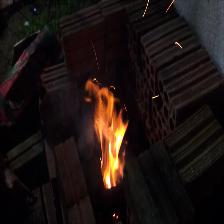fire: (75, 60, 148, 191)
